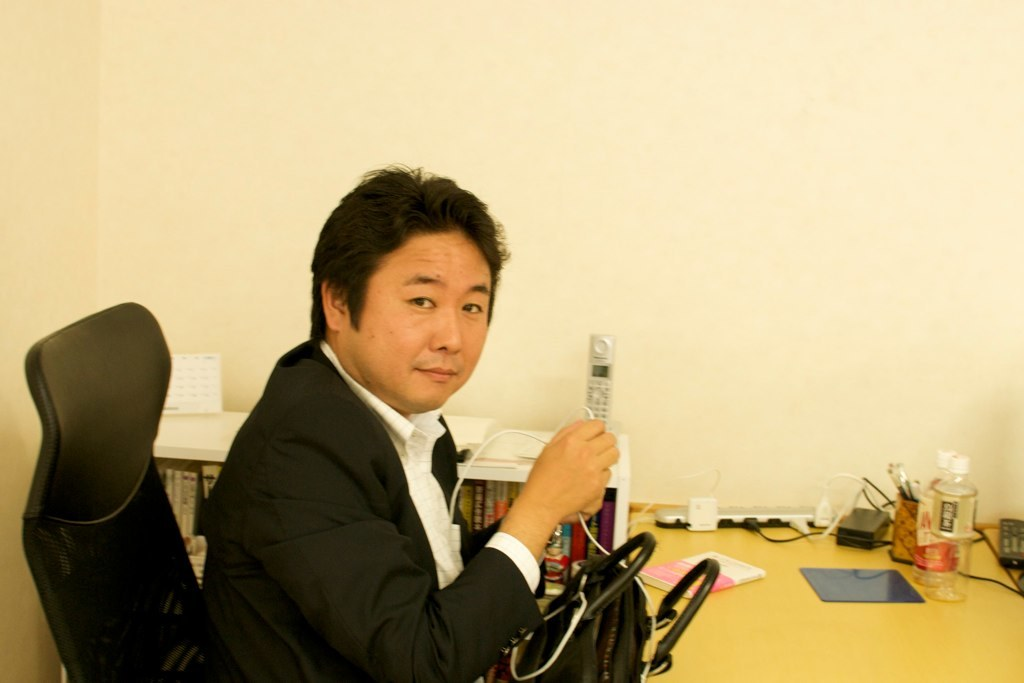Chair: (18, 304, 188, 622)
